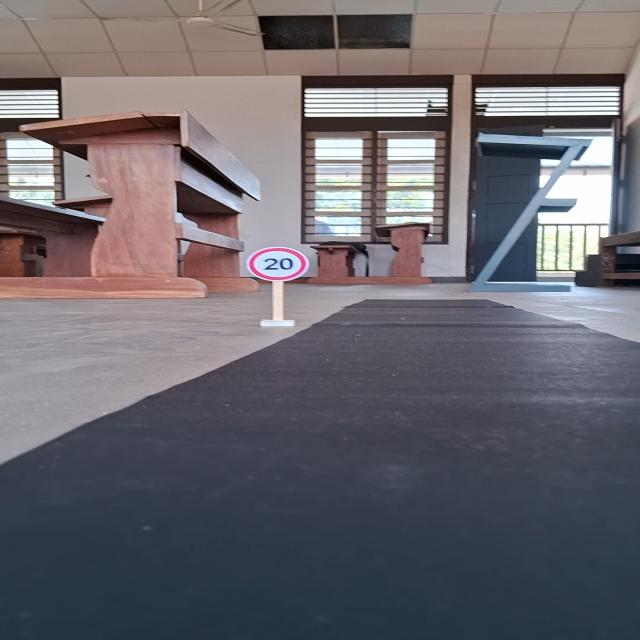Speed20: (244, 244, 311, 283)
